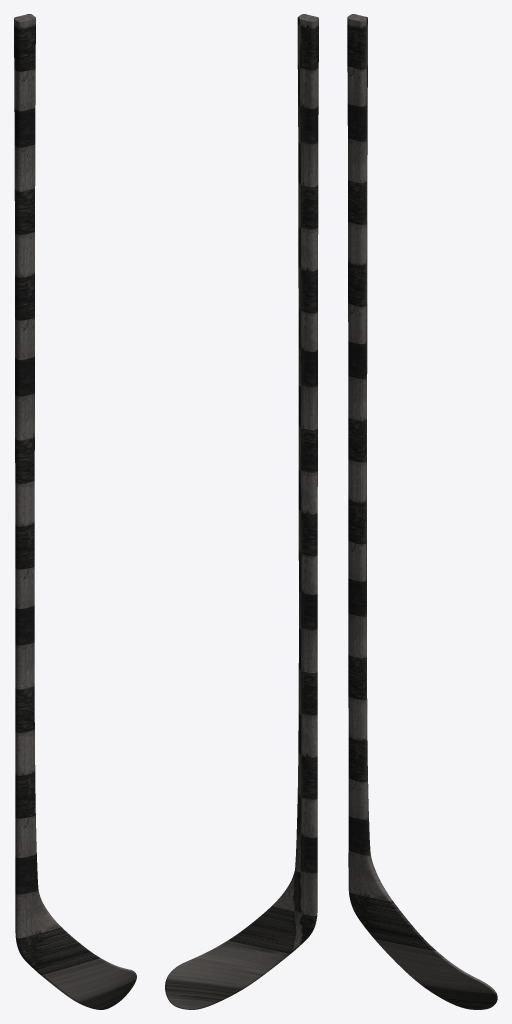
The model's file is P28M-SBO.glb.
3 views of the same model, side by side, from view 1: azimuth 30°, elevation 25°; view 2: azimuth 150°, elevation 25°; view 3: azimuth 330°, elevation 25° (orthographic). The views are drawn at different scales.
Visible parts, largest first — view 1: geometry_0; view 2: geometry_0; view 3: geometry_0.
Part boxes in pixels (x1,y1,x2,y2): geometry_0: [14, 14, 136, 1009]; geometry_0: [165, 14, 318, 1009]; geometry_0: [347, 14, 497, 1009].
Bounding box in the file's own units: 231 × 1650 × 71.83.
Materials: 1 (1 with a texture image).
